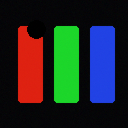2 circle: (27, 20, 45, 38)
